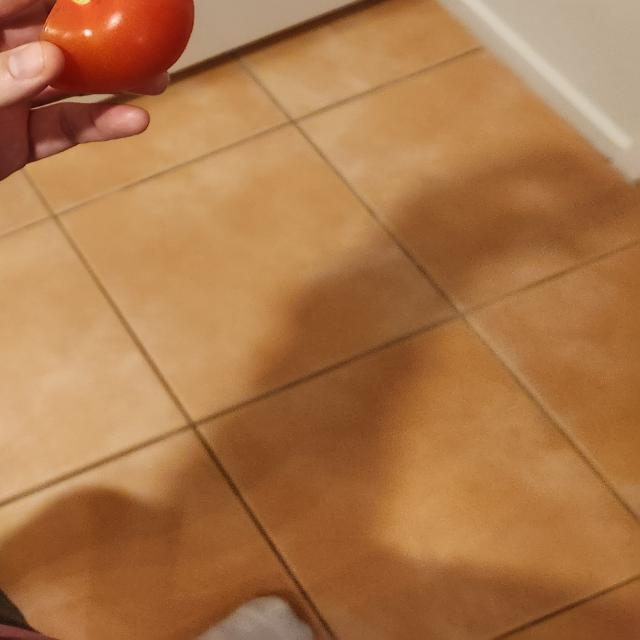tomato: (38, 0, 197, 92)
